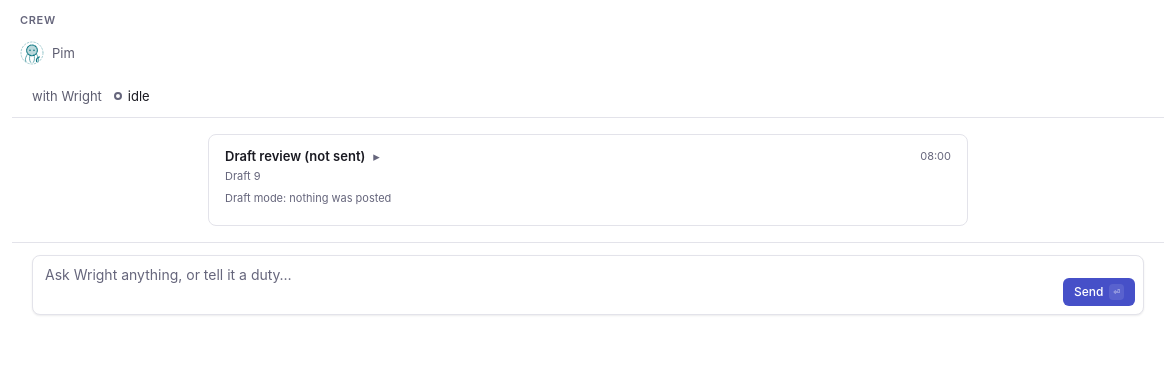
draft card › a draft missing from the list reads 'Draft review (not sent)' with its id until the detail answers
The image size is (1176, 367).
Expected: the text "Draft review (not sent)" is shown, [225, 147, 365, 165]
Expected: the text "Draft 9" is shown, [225, 169, 260, 183]
Click the button "Draft review (not sent) ▸" at (302, 156), box [225, 147, 380, 165]
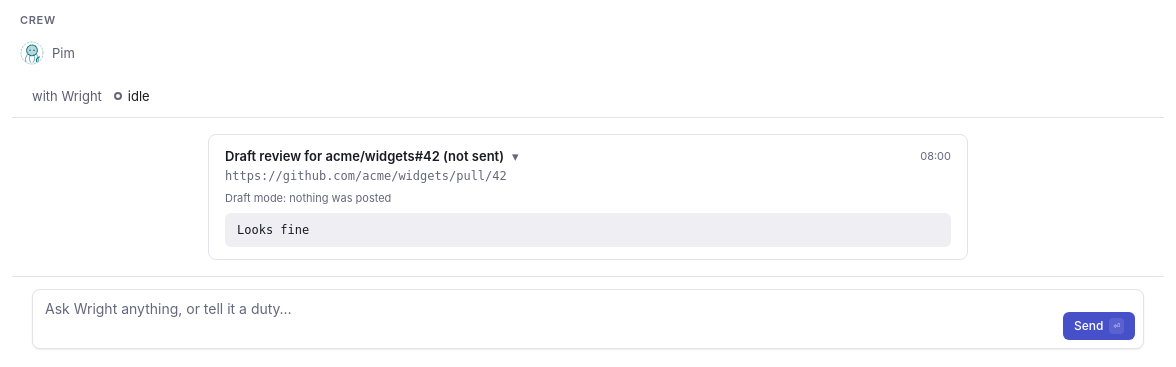
Now the text "Draft review for acme/widgets#42 (not sent)" is shown, box [225, 147, 504, 165]
